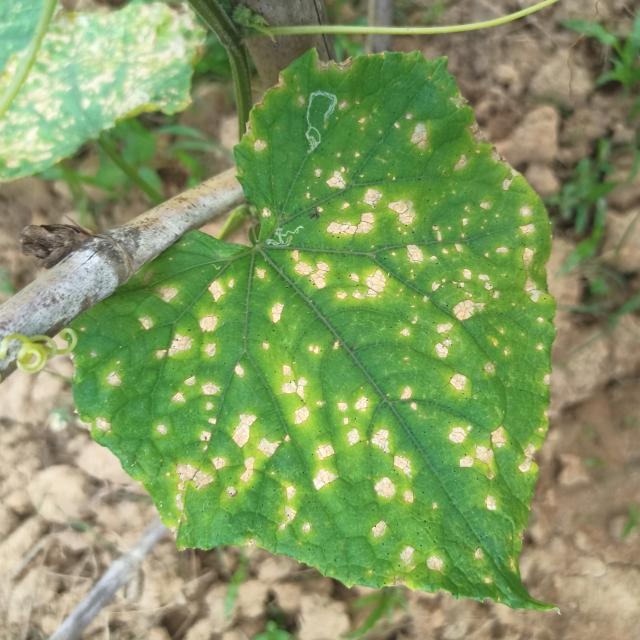disease_cucumber: (99, 81, 552, 584)
